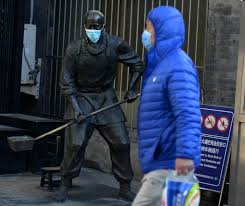mask: (140, 7, 175, 50), (82, 9, 105, 44)
